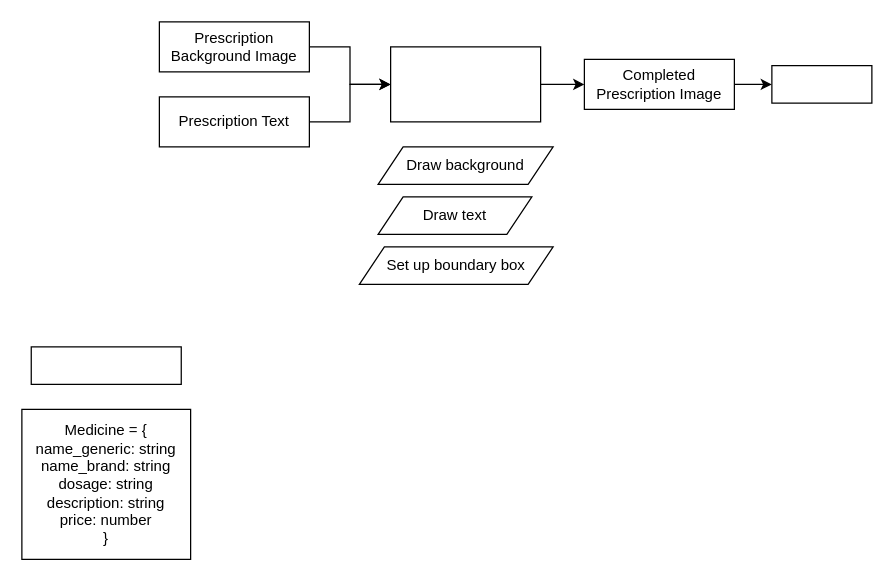
Some shapes in this 894 by 581 pixel diagram are drawn without their labels. The box of each missing label's shape, as (x1, y1, x2, y2) in pixels:
Canvas API: (389, 46, 541, 122)
Medicine Database: (30, 346, 181, 384)
Print: (771, 64, 872, 103)
